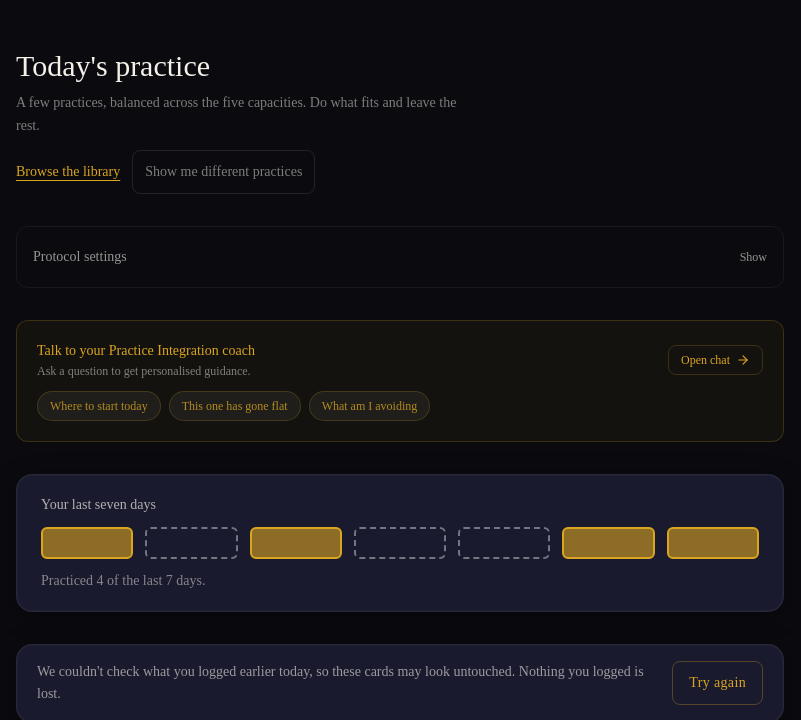
Test case: PracticePage hydration › reads the log again when the notice's retry is used
The image size is (801, 720).
Click the button "Try again": (718, 683) [672, 661, 763, 705]
(page scrolled)
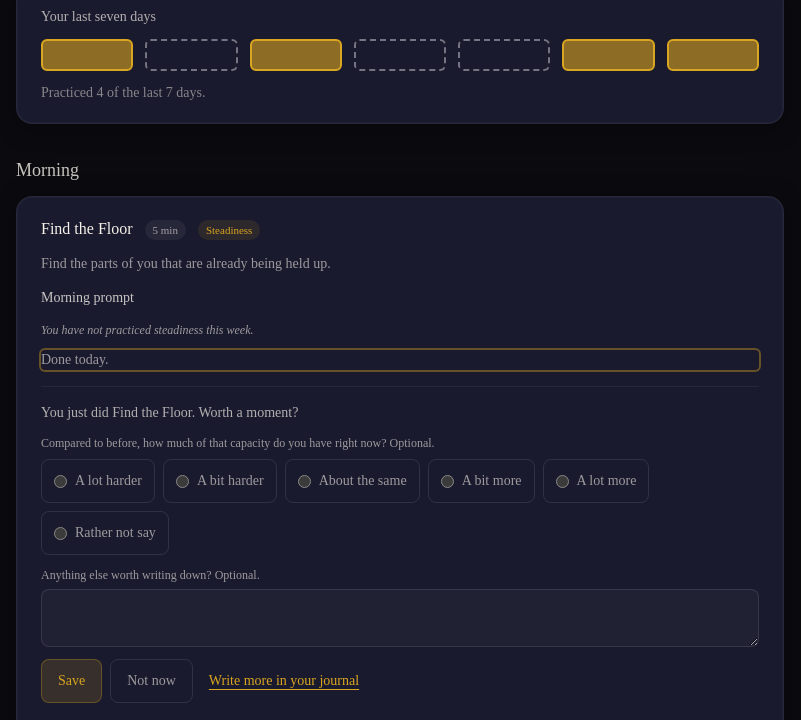
Now the text "Done today." is shown, box [41, 350, 759, 370]
Now the text "may look untouched" is gone
